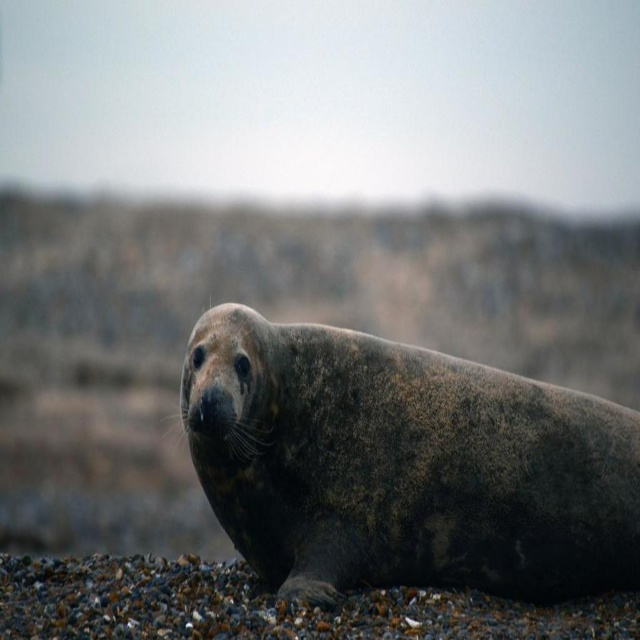Harbor seal: (163, 293, 635, 612)
